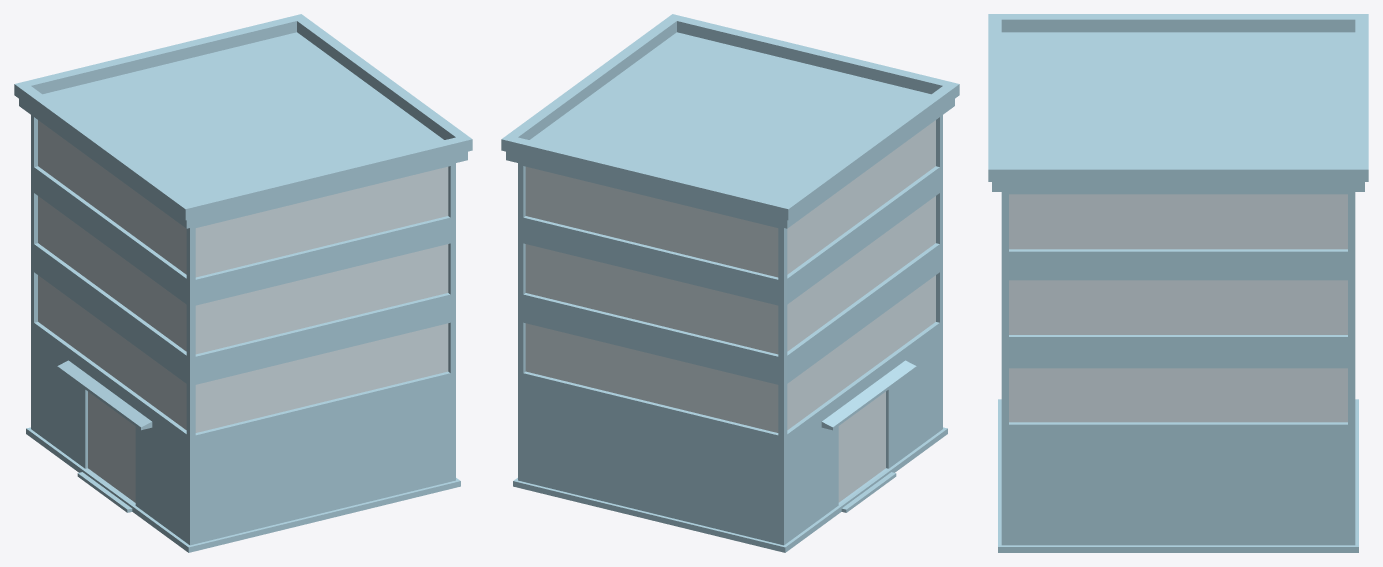
Rendered from sptp_building_35.FBX.
3 views of the same model, side by side, from view 1: azimuth 30°, elevation 25°; view 2: azimuth 150°, elevation 25°; view 3: azimuth 270°, elevation 25° (orthographic). The views are drawn at different scales.
Visible parts, largest first — view 1: sptp_building_35; view 2: sptp_building_35; view 3: sptp_building_35.
Boxes of the visible parts, x1,y1,x2,y2 form: sptp_building_35: (14,14,472,552); sptp_building_35: (501,14,959,552); sptp_building_35: (988,14,1368,552).
Size of the model in its own units: 3.64 by 4.21 by 3.75.
